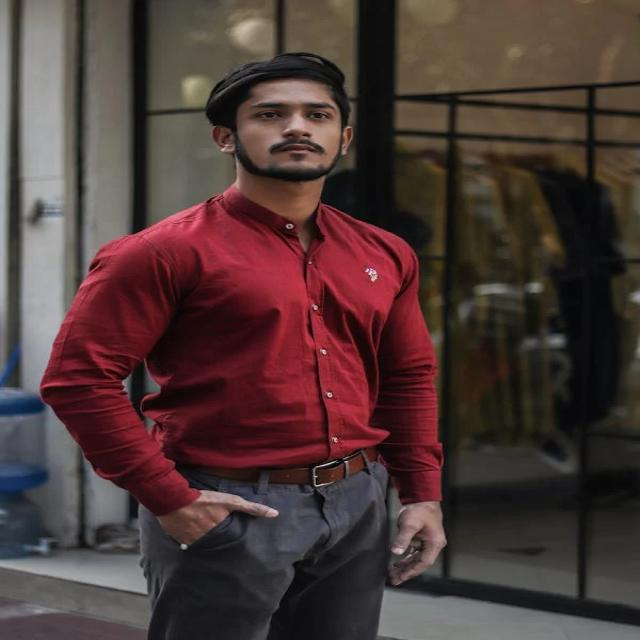Real human 2: (39, 50, 500, 640)
